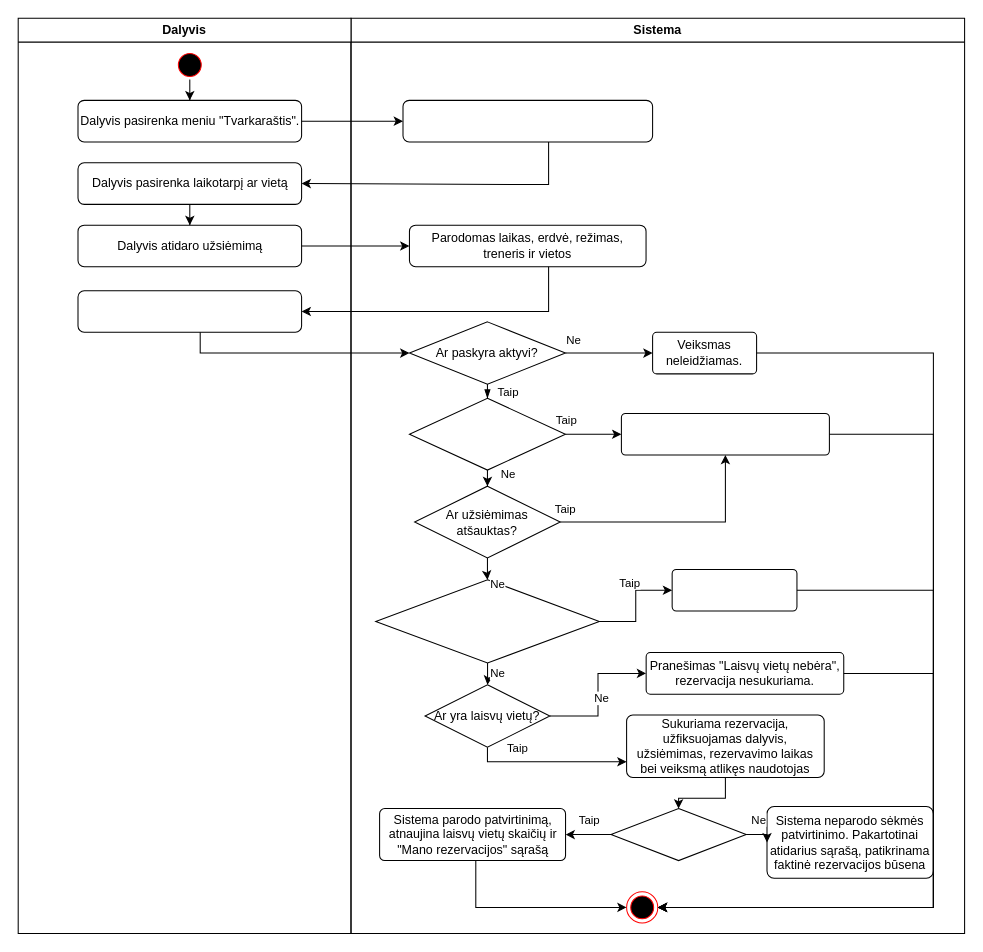
Some shapes in this 983 by 952 pixel diagram are drawn without their labels. Here are the shapes that lost their labels. From the top down, the box of each, then its label:
(402, 99, 653, 142): Pateikiami užsiėmimai ir laisvų vietų skaičius
(77, 290, 302, 332): Dalyvis paspaudžia "Rezervuoti"
(408, 397, 565, 470): Ar užsiėmimas jau prasidėjo?
(620, 412, 829, 455): Neleidžiama rezervuoti. Sistema atnaujina informaciją
(671, 568, 797, 611): Sistema parodo esamą rezervaciją.
(375, 579, 599, 663): Ar dalyvis jau turi aktyvią šio užsiėmimo rezervaciją?
(610, 808, 746, 861): Ar rezervacija sėkminga?
